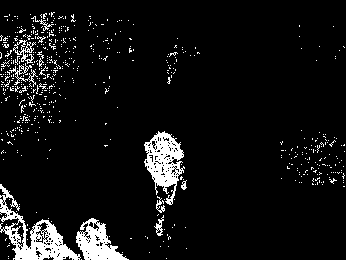person: (145, 128, 188, 237)
